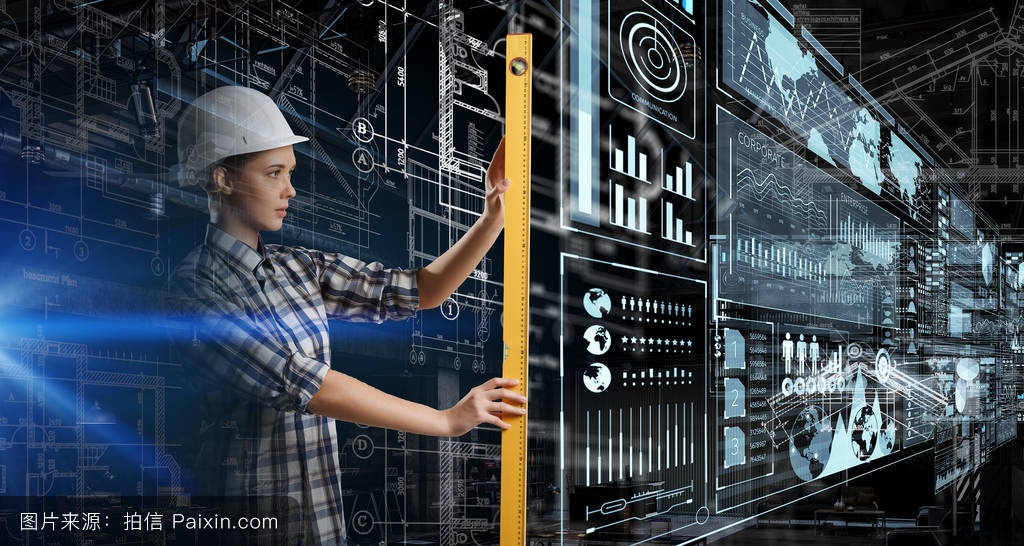white: (168, 86, 298, 238)
